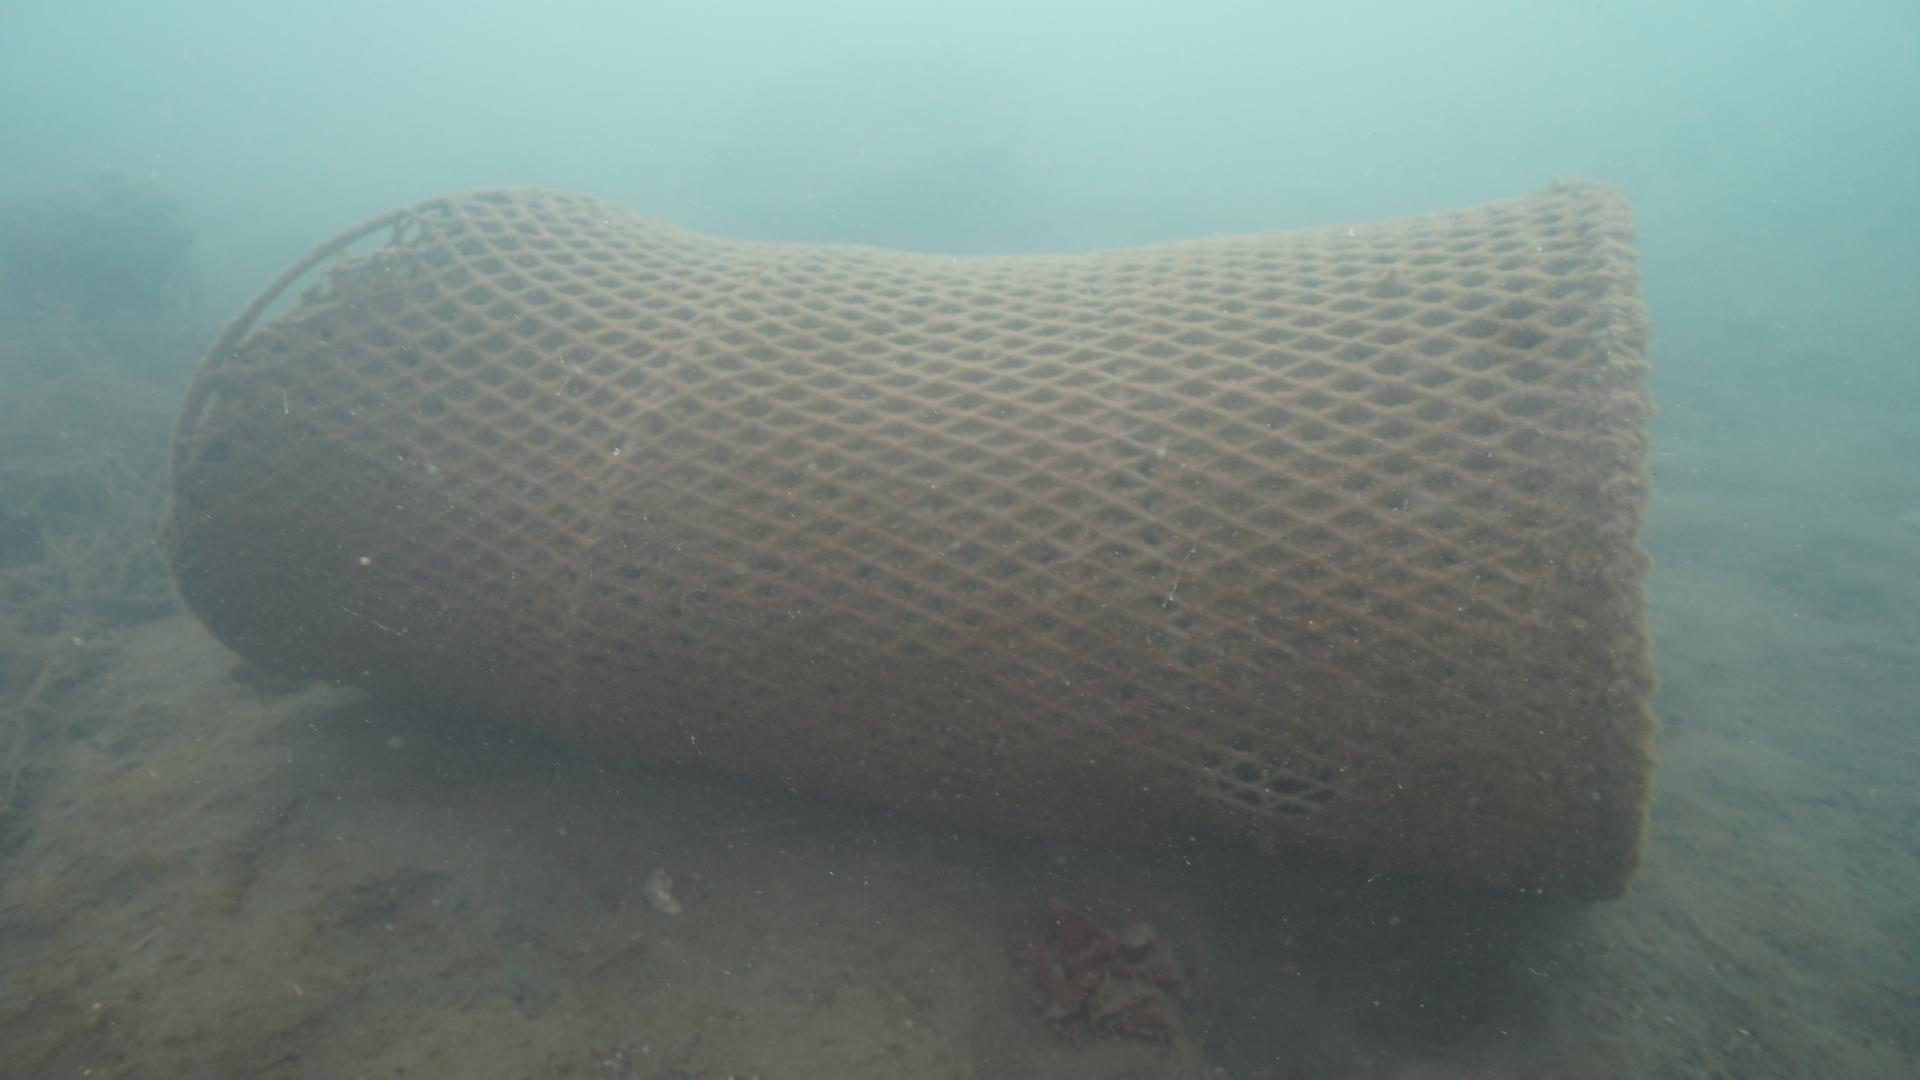spring fish trap: (157, 171, 1664, 920)
